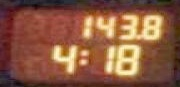-: (133, 32, 142, 39)
1: (100, 42, 114, 73), (75, 13, 92, 37)
3: (115, 12, 135, 38)
4: (47, 42, 75, 73), (92, 12, 115, 37)
8: (115, 41, 140, 76), (140, 12, 162, 39)
X: (75, 47, 89, 66)
